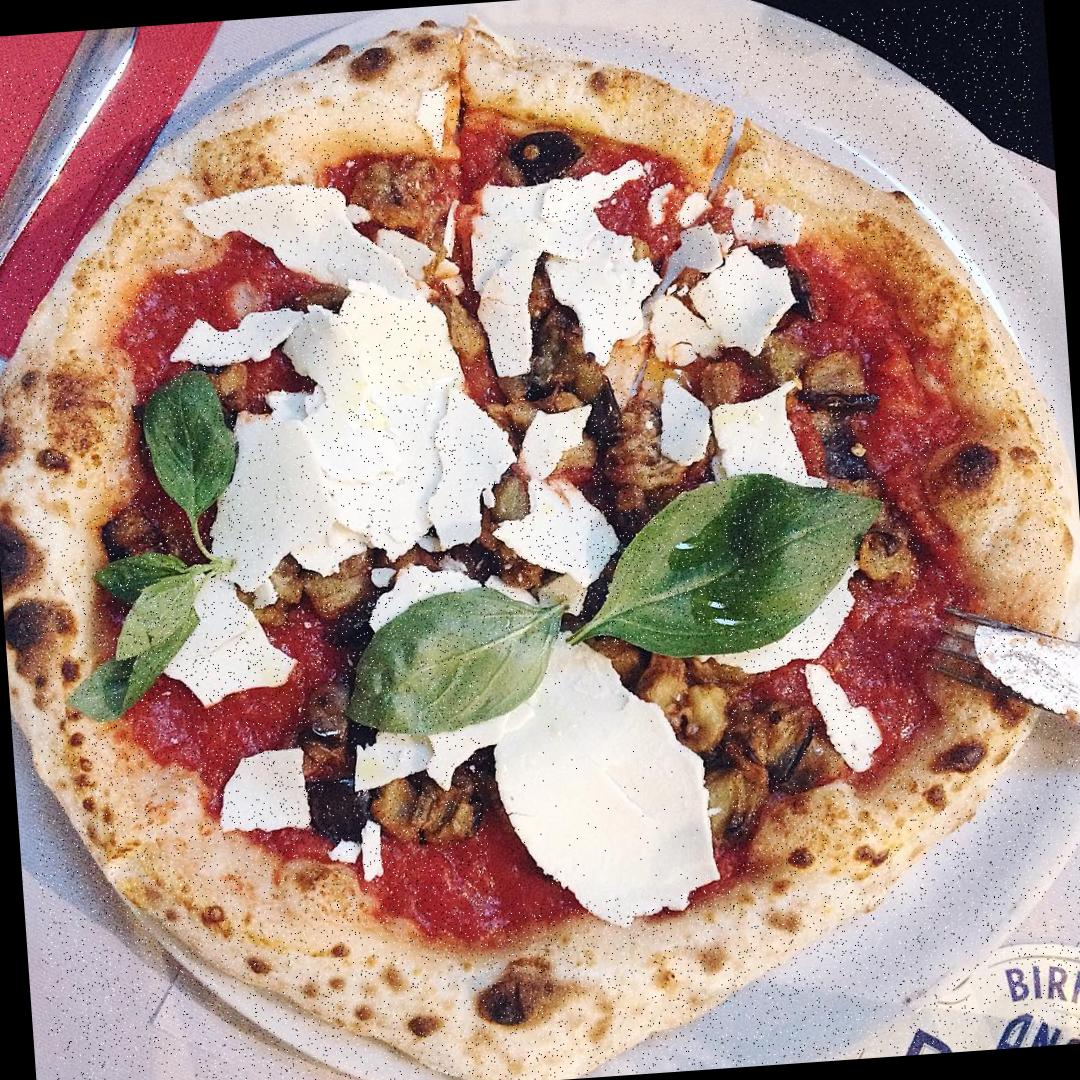Basil: (588, 462, 876, 652), (98, 373, 256, 684), (345, 586, 575, 732)
Cheese: (220, 190, 522, 572), (477, 637, 736, 905), (650, 254, 813, 466), (480, 180, 657, 368), (190, 740, 318, 848)
Pizza: (0, 0, 1080, 1080)
